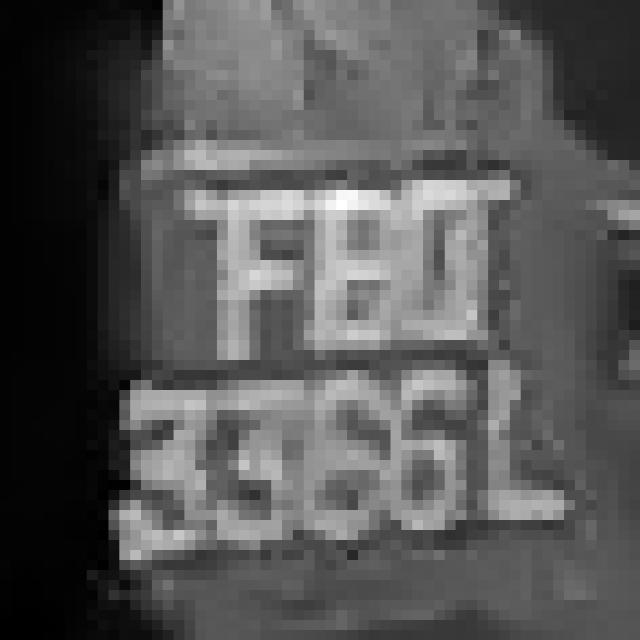3: (195, 360, 293, 580), (109, 350, 206, 570)
6: (271, 360, 391, 570), (358, 370, 477, 570)
B: (293, 160, 401, 380)
F: (206, 140, 304, 390)
L: (456, 340, 575, 560)
Q: (369, 150, 477, 380)
